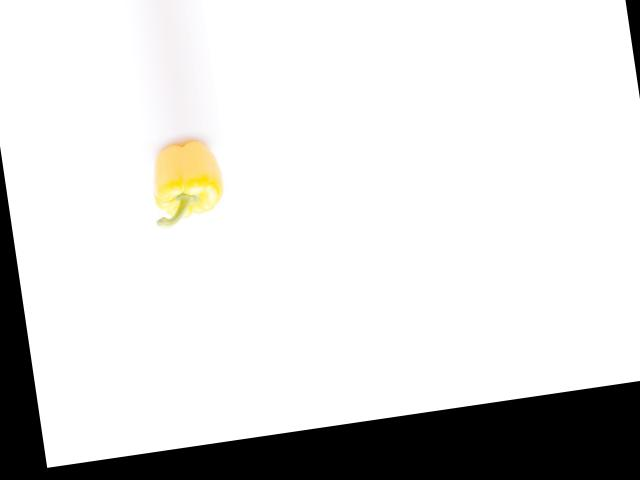bell_pepper: (143, 134, 234, 225)
